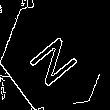N_NE: (25, 23, 85, 87)
